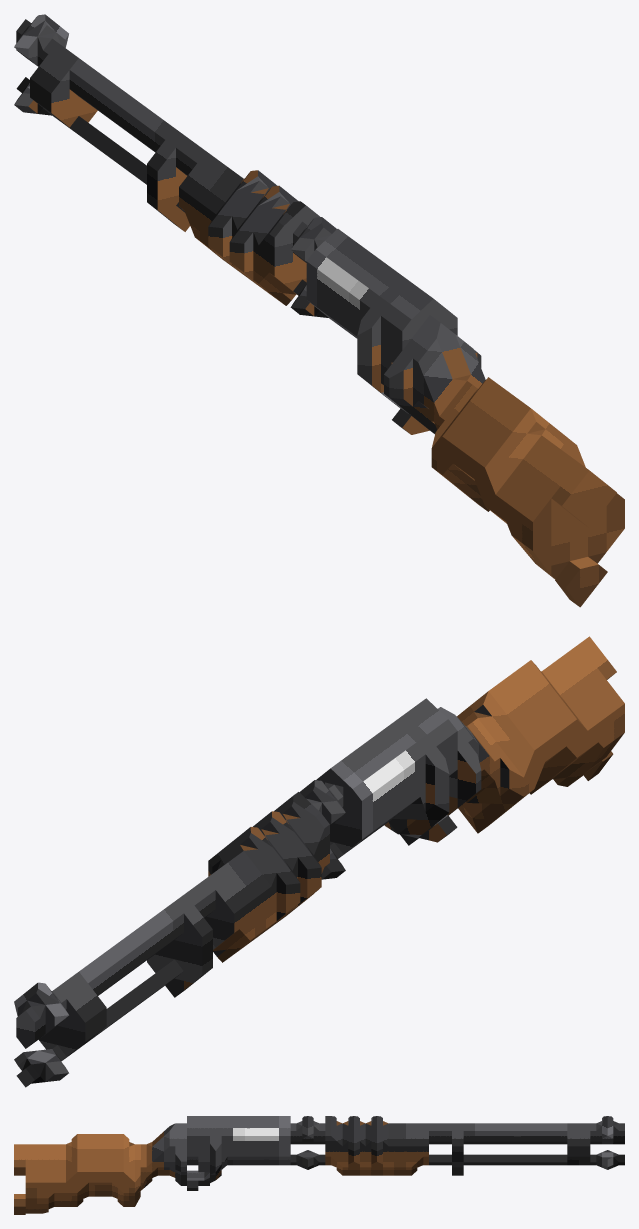
Rendered from shotgun.glb.
The picture shows the model from 3 angles, top to bottom: view 1: azimuth 30°, elevation 25°; view 2: azimuth 150°, elevation 25°; view 3: azimuth 270°, elevation 25°; orthographic projection. The views are drawn at different scales.
Parts seen in each view (by area): view 1: shotgun; view 2: shotgun; view 3: shotgun.
Part boxes in pixels (x1=…): shotgun: x1=14, y1=14, x2=624, y2=607; shotgun: x1=14, y1=636, x2=624, y2=1087; shotgun: x1=14, y1=1116, x2=624, y2=1214.
Size of the model in its own units: 0.1562 by 0.3062 by 1.66.
Materials: 1 (1 with a texture image).
